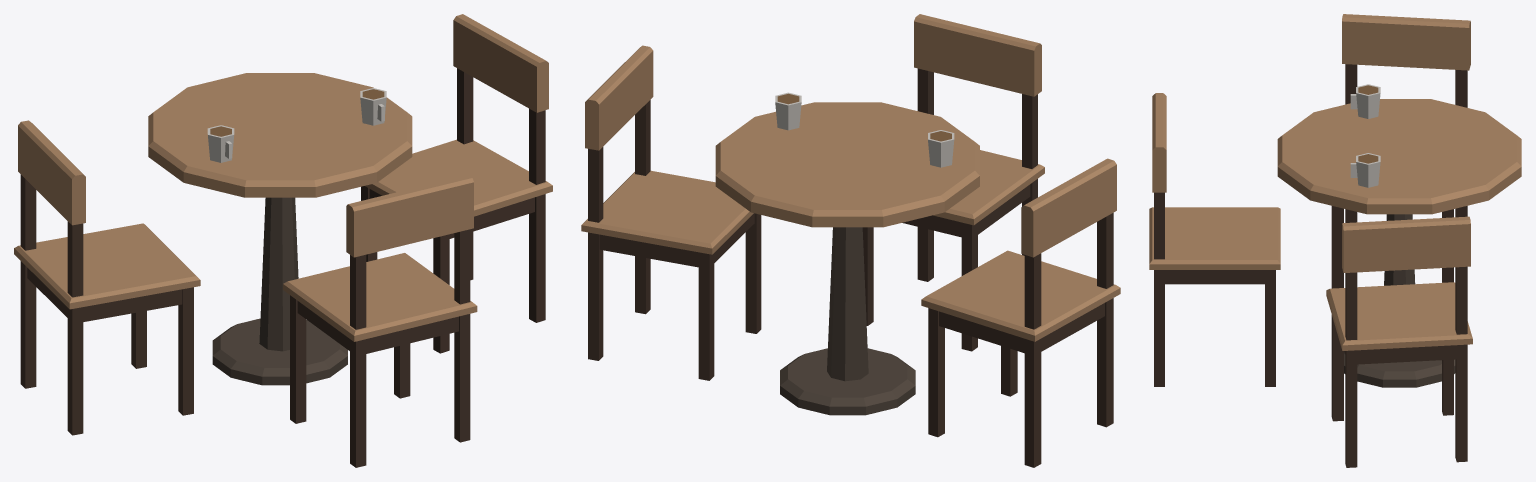
Rendered from cafe-table-set-1868d1.glb.
3 renders of one model, left to right at view 1: azimuth 30°, elevation 25°; view 2: azimuth 150°, elevation 25°; view 3: azimuth 270°, elevation 25°, orthographic. The views are drawn at different scales.
Visible parts, largest first — view 1: table-and-chairs, tableware-mesh; view 2: table-and-chairs, tableware-mesh; view 3: table-and-chairs, tableware-mesh.
Part boxes in pixels (x1,y1,x2,y2): table-and-chairs: [14, 14, 552, 467]; tableware-mesh: [207, 88, 386, 162]; table-and-chairs: [581, 14, 1120, 467]; tableware-mesh: [775, 92, 954, 167]; table-and-chairs: [1149, 14, 1521, 467]; tableware-mesh: [1350, 84, 1380, 187].
Bounding box in the file's own units: 1.65 × 0.85 × 1.19.
